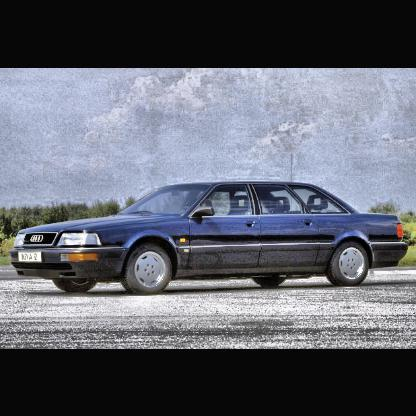Audi V8 Sedan 1994: (10, 181, 413, 301)
